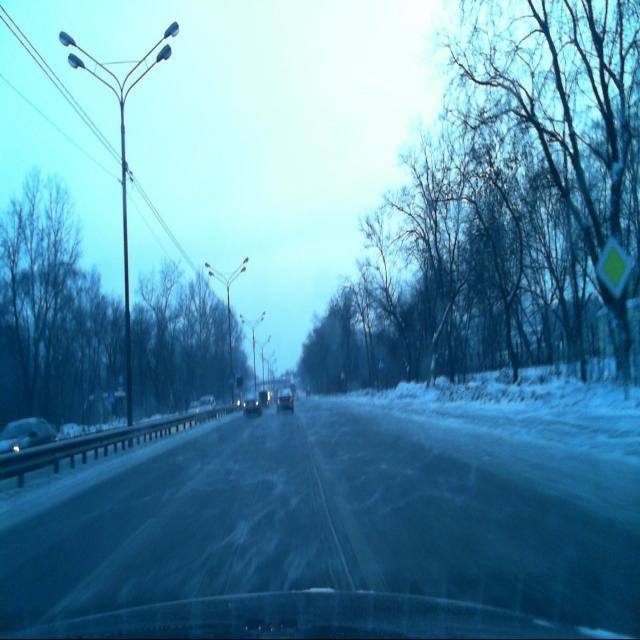road sign: (596, 236, 633, 299)
